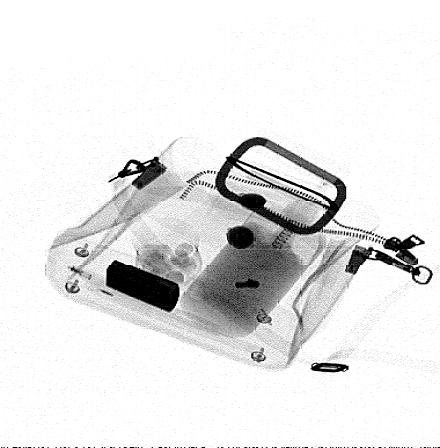Lighter: (104, 260, 180, 314)
